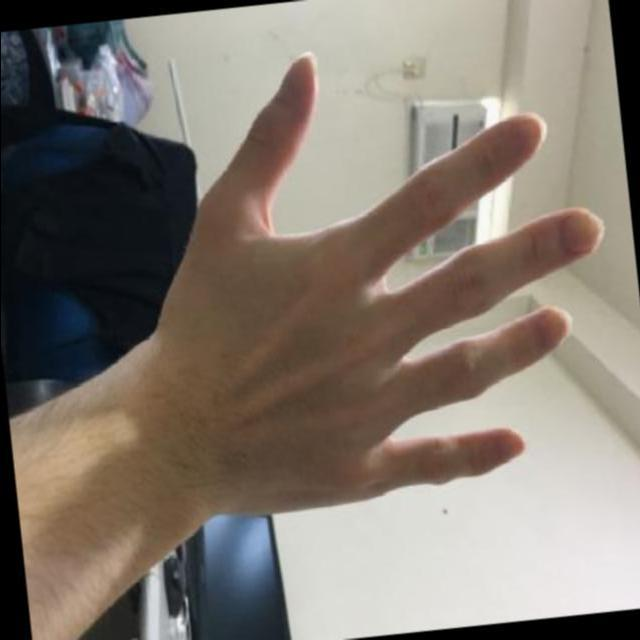hand: (72, 4, 640, 562)
